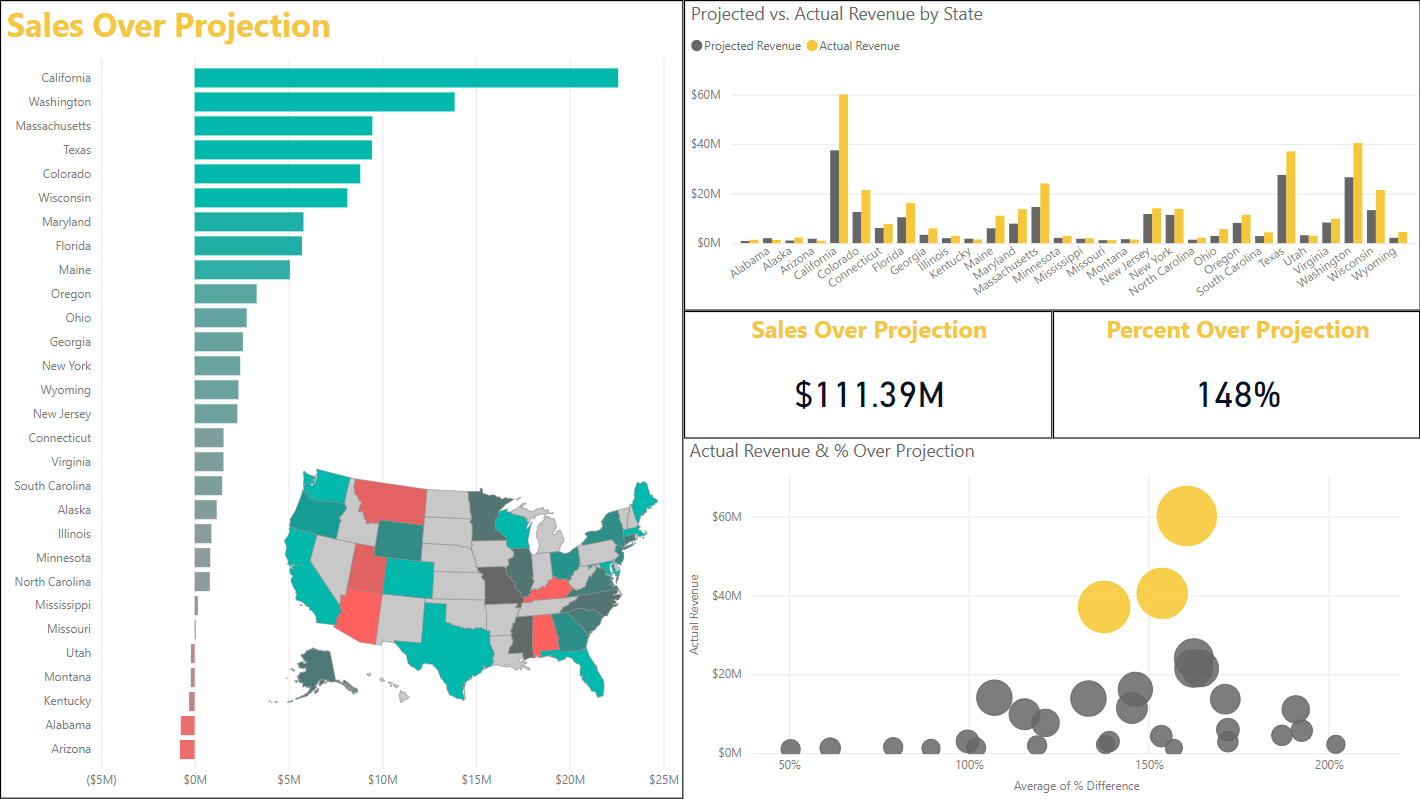

The page's visual inventory and layout, read from the dashboard file:
{"tool":"powerbi","page":{"name":"Revenue - Actual vs. Projected","canvas":[1280,720],"ordinal":1},"visuals":[{"type":"scatterChart","title":"Actual Revenue & % Over Projection","fields":{"X":["Avg(Geography.% Difference)"],"Y":["Sum(Geography.Actual Revenue)"],"Category":["Geography.State"],"Size":["Sum(Geography.Projected Revenue)"]},"box":[616.5,394.6,663.5,325.1],"z":0},{"type":"barChart","title":"Sales Over Projection","fields":{"Category":["Geography.State"],"Y":["Sum(Geography.Difference)"]},"box":[0,0,616.5,719.7],"z":1000},{"type":"clusteredColumnChart","title":"Projected vs. Actual Revenue by State","fields":{"Y":["Sum(Geography.Projected Revenue)","Sum(Geography.Actual Revenue)"],"Category":["Geography.State"]},"box":[616.5,0,663.5,280.1],"z":2000},{"type":"card","title":"Sales Over Projection","fields":{"Values":["Sum(Geography.Difference)"]},"box":[616.5,280.1,332.3,114.5],"z":3000},{"type":"card","title":"Percent Over Projection","fields":{"Values":["Avg(Geography.% Difference)"]},"box":[948.8,280.1,331.2,114.5],"z":4000},{"type":"shapeMap","fields":{"Category":["Geography.State"]},"box":[217.8,337.4,398.7,382.4],"z":6500}]}

Visuals, with their boxes in screenshot pixels (x1, y1, x2, y2), scaled from the page's 1280x720 canvas onto the 1420x799 screenshot:
"Actual Revenue & % Over Projection" scatterChart: detection(684, 438, 1419, 798)
"Sales Over Projection" barChart: detection(0, 0, 684, 798)
"Projected vs. Actual Revenue by State" clusteredColumnChart: detection(684, 0, 1419, 311)
"Sales Over Projection" card: detection(684, 311, 1053, 438)
"Percent Over Projection" card: detection(1053, 311, 1419, 438)
shapeMap - Geography.State: detection(242, 374, 684, 798)
